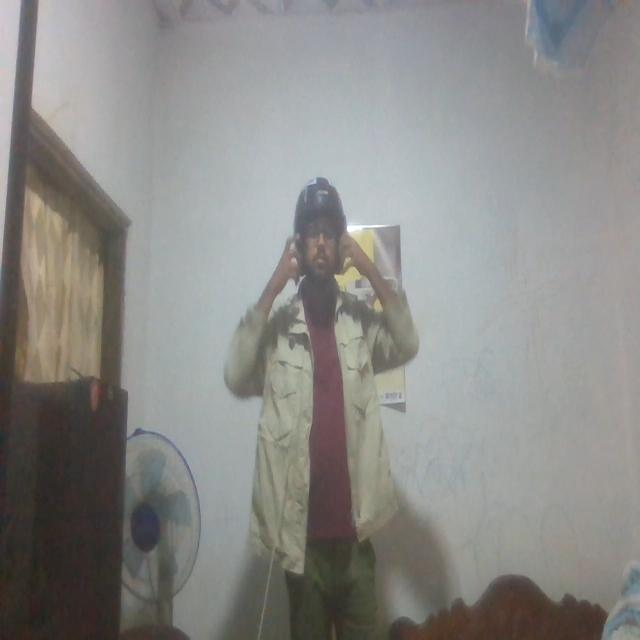Helmet_Wearer: (283, 177, 355, 291)
Jacket_Wearer: (224, 290, 431, 543)
Person: (232, 178, 424, 640)
